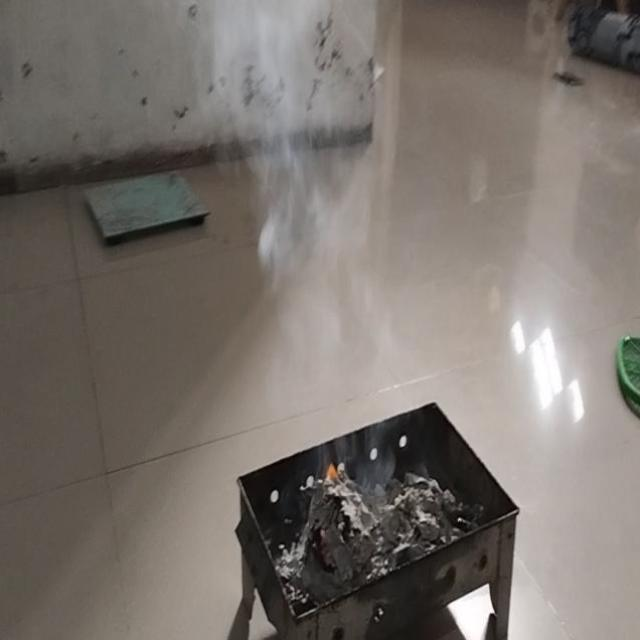fire: (230, 0, 384, 339)
